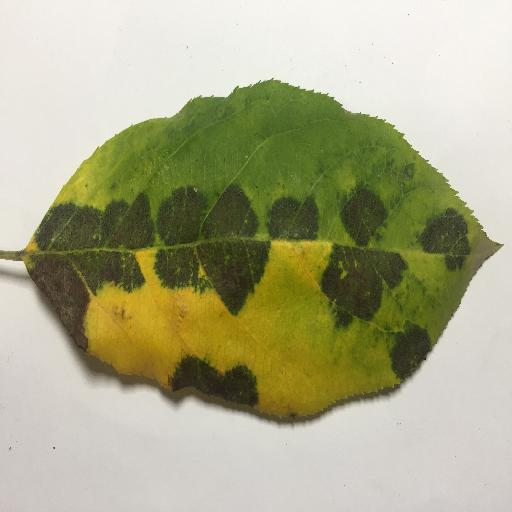Brown_Spot: (32, 259, 102, 361), (166, 357, 265, 411), (197, 256, 261, 322)
